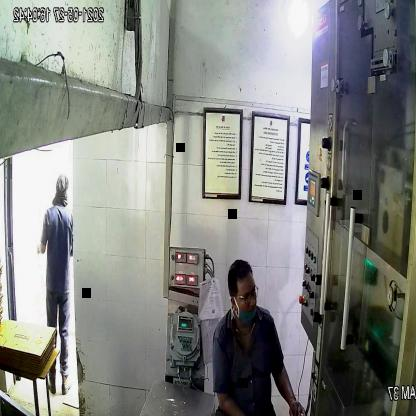goggles: (228, 282, 260, 310)
